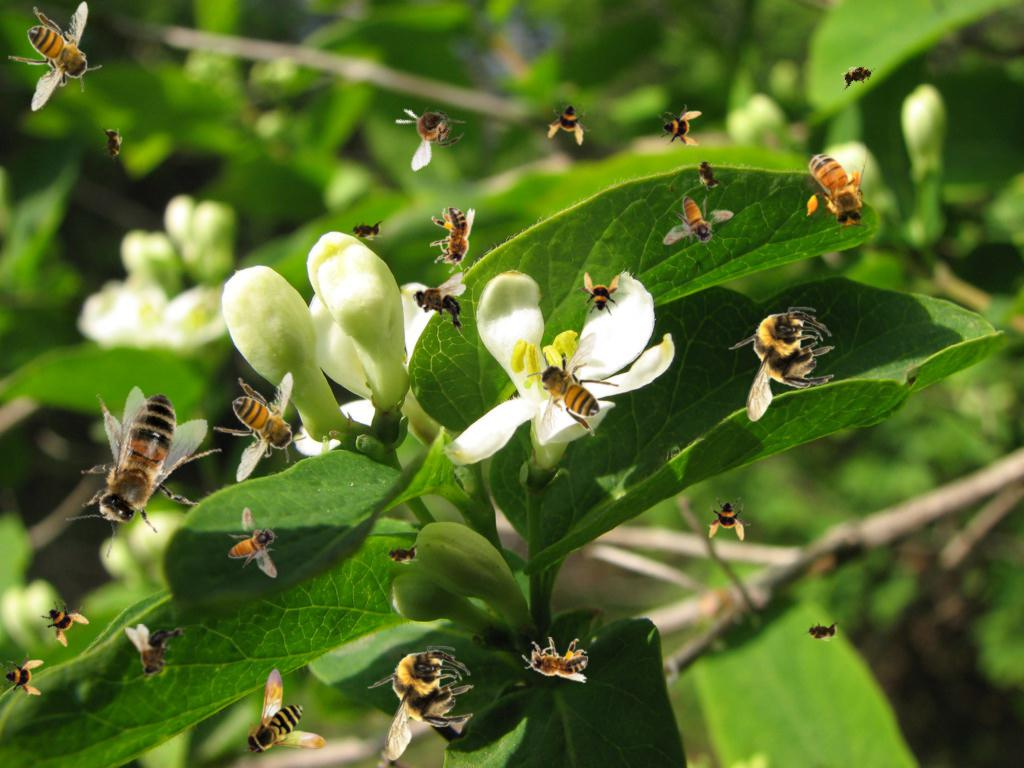Bee: (41, 371, 240, 565), (367, 646, 474, 761), (728, 307, 835, 422), (526, 331, 620, 442), (213, 372, 307, 483), (8, 1, 102, 112), (385, 85, 476, 173), (244, 668, 326, 756), (803, 141, 871, 234), (33, 589, 95, 651), (228, 507, 278, 578), (663, 196, 734, 246), (125, 624, 187, 677), (413, 272, 466, 334), (521, 636, 589, 683), (430, 207, 475, 273), (545, 97, 595, 147), (0, 653, 44, 697), (658, 104, 702, 148), (707, 497, 751, 541), (577, 272, 621, 316), (690, 151, 726, 197), (835, 60, 881, 92), (382, 543, 422, 565), (101, 124, 123, 164), (346, 219, 386, 241), (802, 620, 842, 642)
